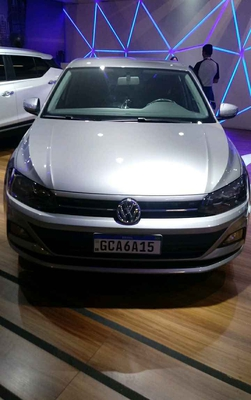Frontal Veiculo: (2, 61, 251, 277)
